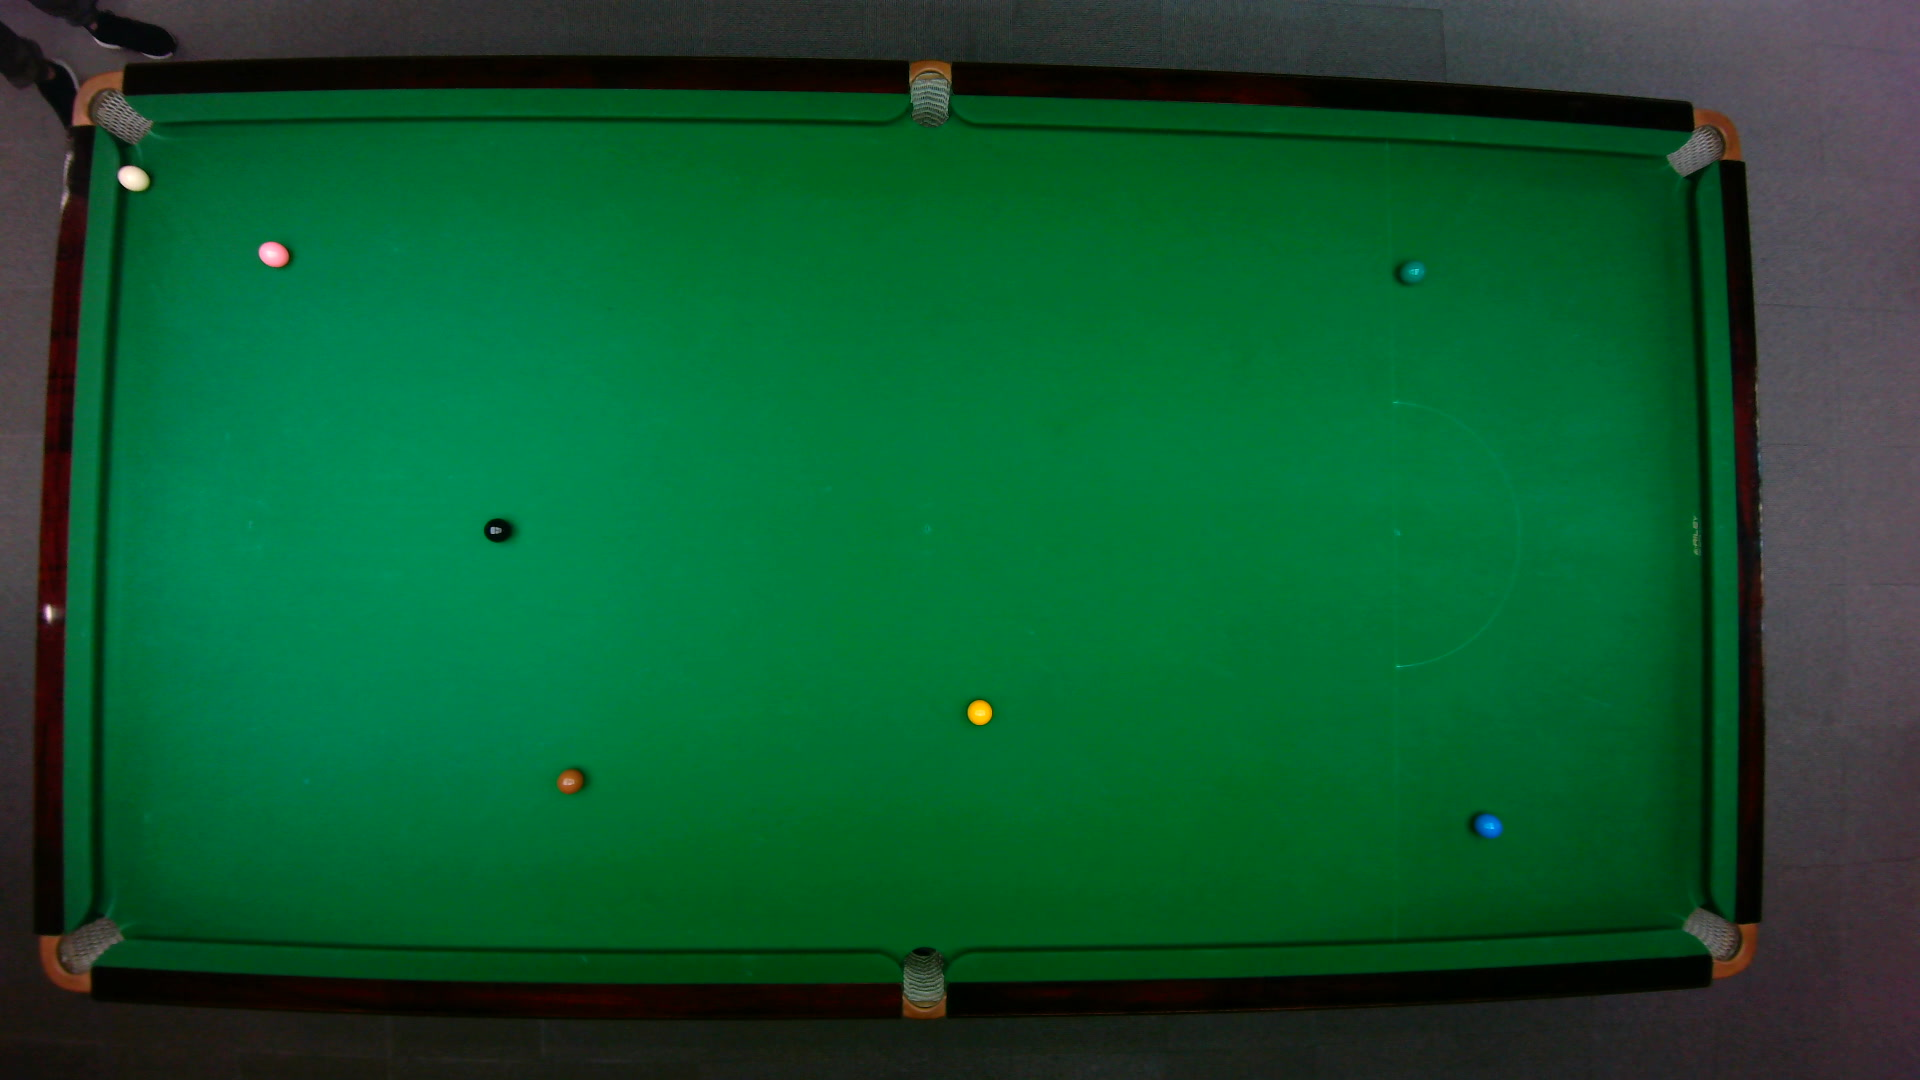bag: (37, 914, 125, 993), (69, 69, 153, 144), (1679, 905, 1756, 978), (1663, 107, 1741, 178), (901, 944, 944, 1021), (909, 57, 949, 128)
black: (483, 516, 512, 543)
blue: (1472, 811, 1503, 839)
brown: (555, 766, 584, 794)
green: (1396, 258, 1425, 284)
pink: (256, 237, 290, 268)
white: (115, 164, 152, 193)
yellow: (965, 698, 993, 727)
zone: (1390, 398, 1520, 669)
